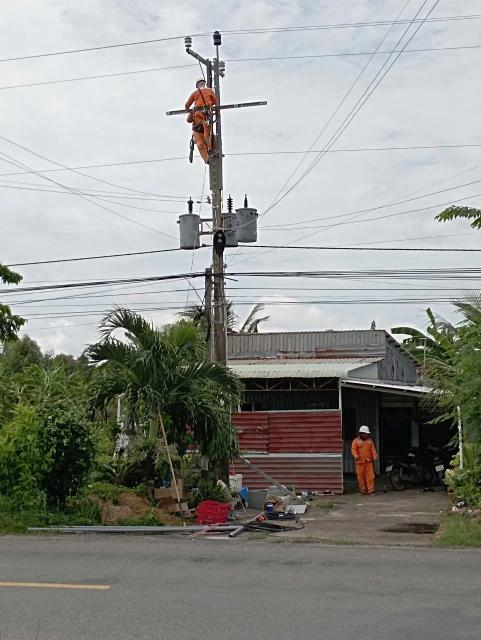harness: (190, 105, 216, 114)
helmet: (190, 76, 214, 87)
shoes: (204, 158, 214, 168)
